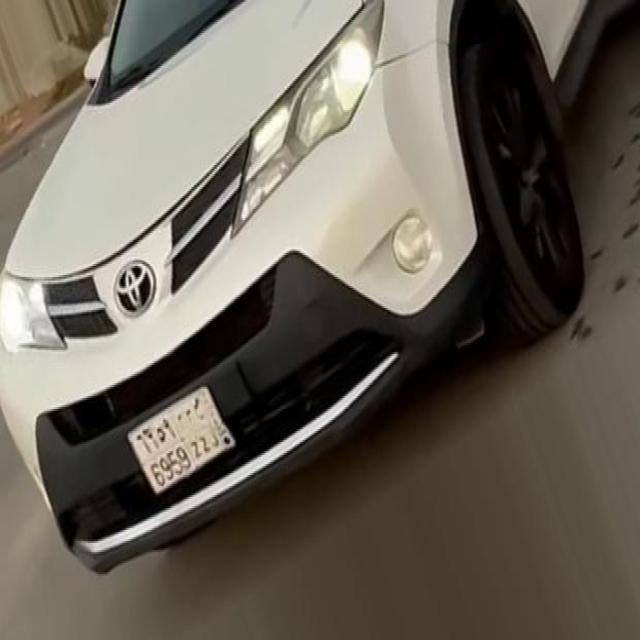Car-plate: (117, 360, 248, 514)
